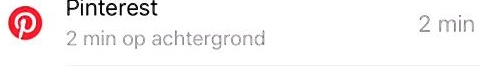name: (56, 1, 169, 22)
time: (62, 28, 121, 51)
